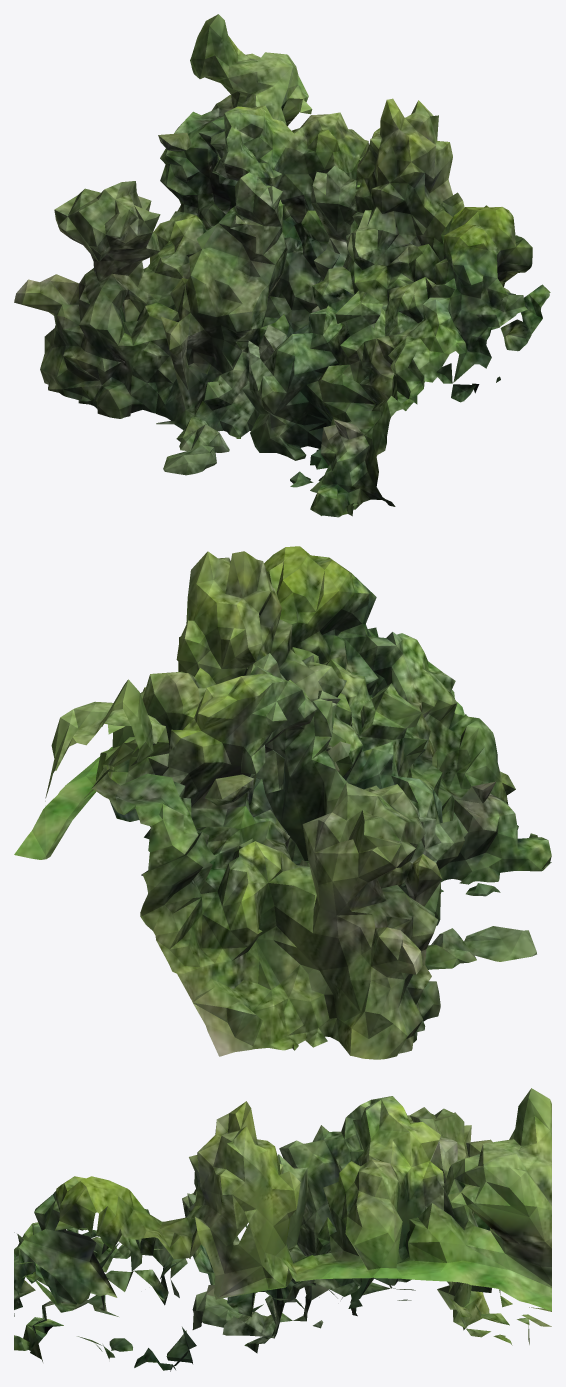
The picture shows the model from 3 angles, top to bottom: view 1: azimuth 30°, elevation 25°; view 2: azimuth 150°, elevation 25°; view 3: azimuth 270°, elevation 25°; orthographic projection. The views are drawn at different scales.
Bounding box in the file's own units: 37.61 × 34.36 × 52.22.
5 materials, 5 textured.
